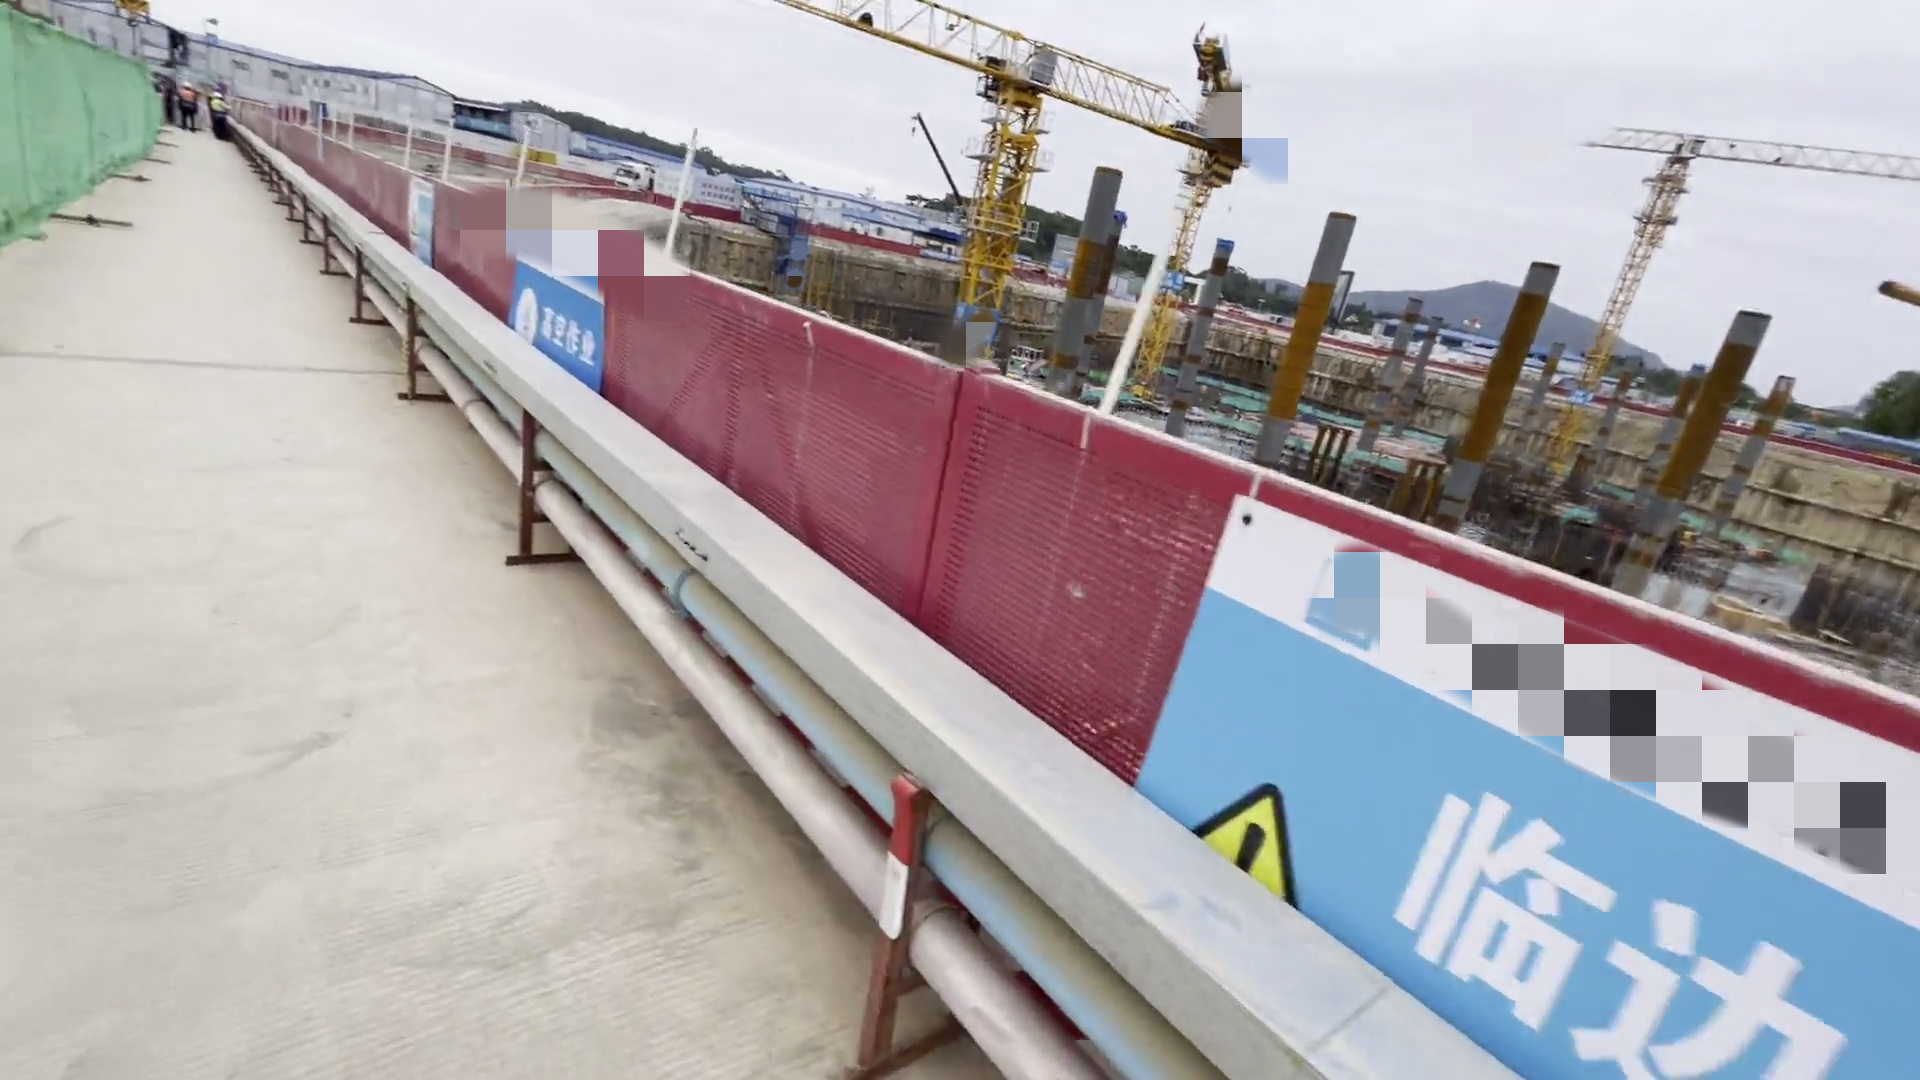fence: (208, 92, 1139, 732)
hook: (122, 1, 157, 58)
person: (209, 83, 233, 150), (174, 76, 200, 134)
slogan: (1138, 543, 1891, 1080), (488, 207, 670, 403), (384, 166, 460, 287)
